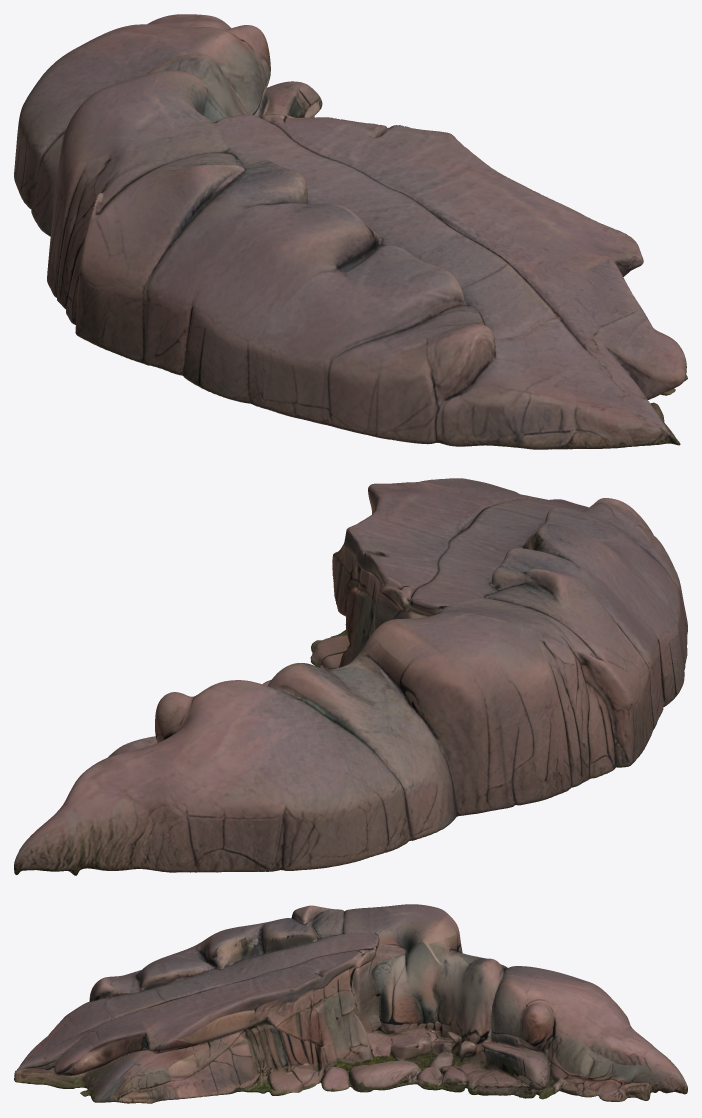
File: bory_tastagan_3d_model.glb
3 renders of one model, top to bottom at view 1: azimuth 30°, elevation 25°; view 2: azimuth 150°, elevation 25°; view 3: azimuth 270°, elevation 25°, orthographic. The views are drawn at different scales.
Visible parts, largest first — view 1: tripo_node_b15e86c6-a0f5-4df7-b181-b5a6aa50b244; view 2: tripo_node_b15e86c6-a0f5-4df7-b181-b5a6aa50b244; view 3: tripo_node_b15e86c6-a0f5-4df7-b181-b5a6aa50b244.
Boxes of the visible parts, x1,y1,x2,y2 form: tripo_node_b15e86c6-a0f5-4df7-b181-b5a6aa50b244: [14, 14, 687, 449]; tripo_node_b15e86c6-a0f5-4df7-b181-b5a6aa50b244: [14, 478, 687, 875]; tripo_node_b15e86c6-a0f5-4df7-b181-b5a6aa50b244: [14, 904, 687, 1103].
Size of the model in its own units: 0.4482 by 0.1763 by 1.
1 material, 1 textured.
